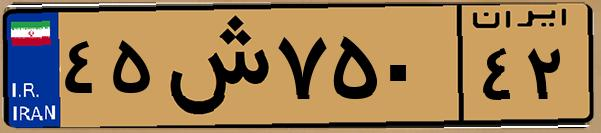0: (385, 28, 445, 110)
2: (525, 38, 570, 115)
4: (57, 26, 110, 100), (475, 38, 525, 113)
5: (330, 28, 385, 110), (110, 28, 158, 98)
7: (270, 28, 330, 110)
ش: (158, 12, 270, 120)
